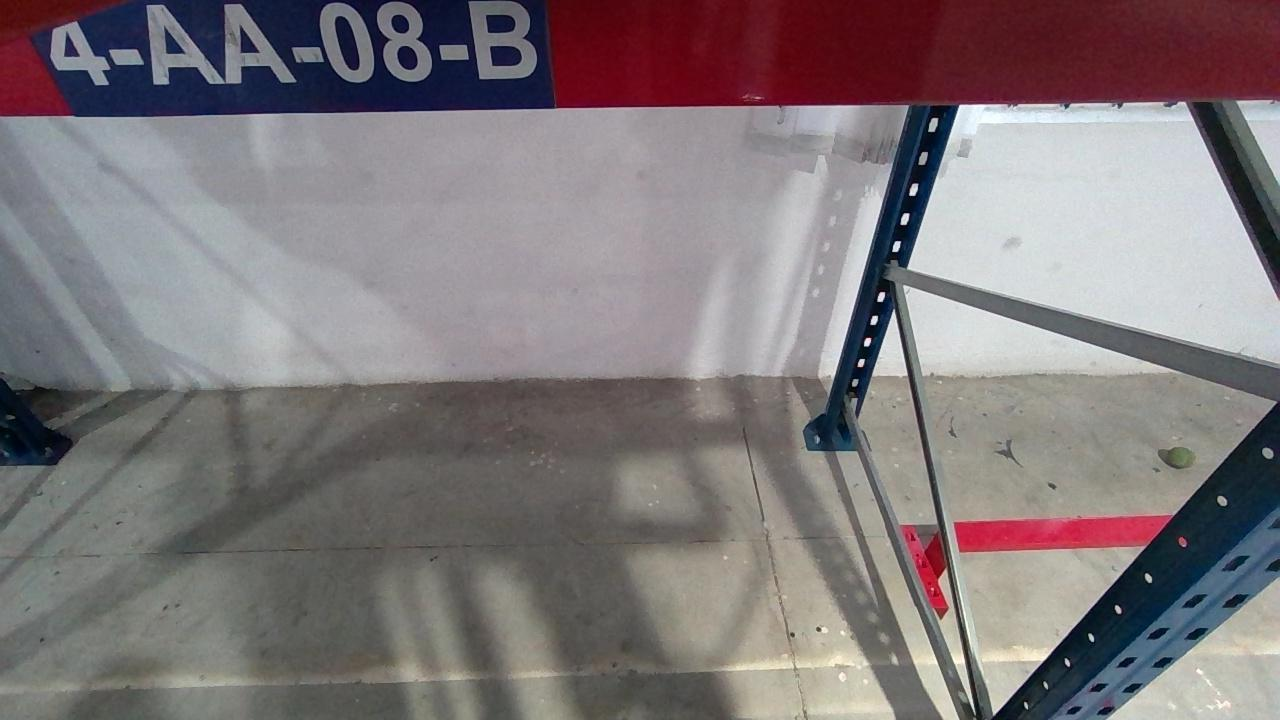h_rack: (0, 0, 1280, 114)
